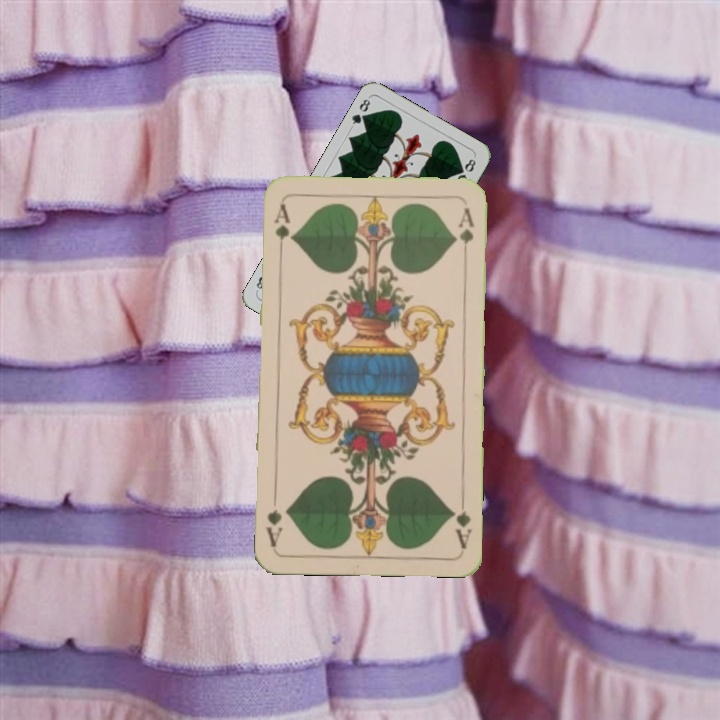G8: (346, 93, 373, 131)
GA: (447, 492, 474, 551), (270, 200, 293, 258)
